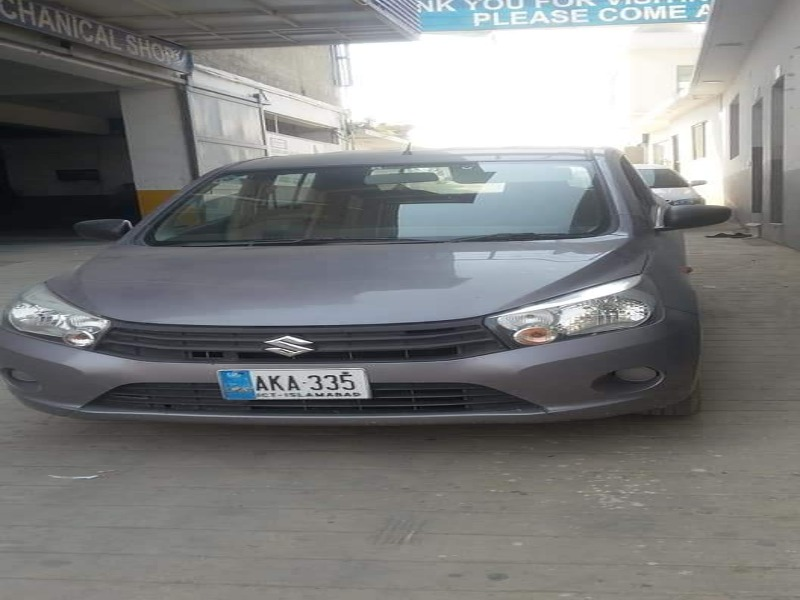License Plate: (210, 363, 377, 413)
